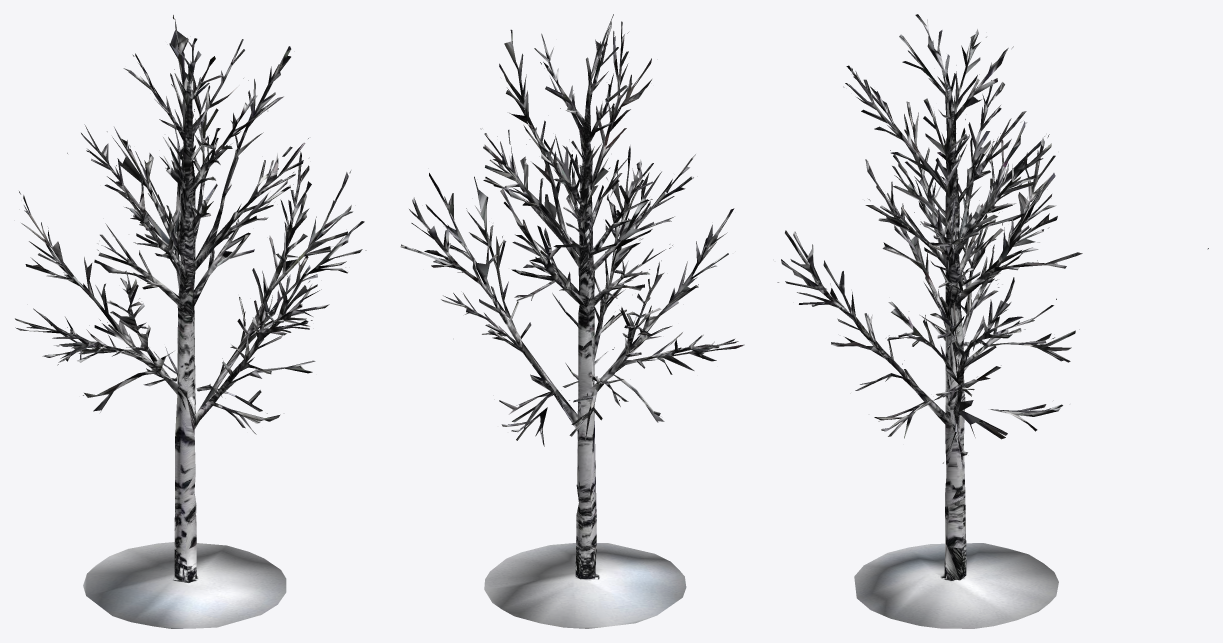
File: birch.glb
3 renders of one model, left to right at view 1: azimuth 30°, elevation 25°; view 2: azimuth 150°, elevation 25°; view 3: azimuth 270°, elevation 25°, orthographic.
Visible parts, largest first — view 1: birch; view 2: birch; view 3: birch.
Boxes of the visible parts, x1=… form: birch: x1=15, y1=15, x2=366, y2=628; birch: x1=400, y1=14, x2=744, y2=628; birch: x1=777, y1=14, x2=1208, y2=628.
Size of the model in its own units: 0.6115 by 1 by 0.6953.
Materials: 1 (1 with a texture image).
